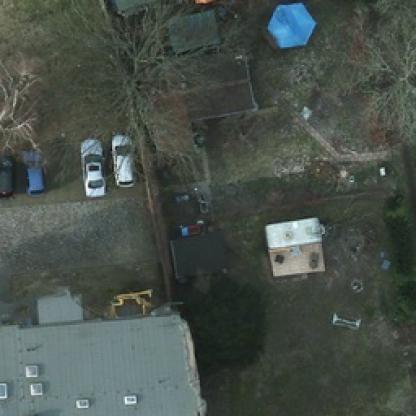car: (80, 140, 108, 197), (22, 142, 48, 194), (110, 133, 134, 187), (0, 146, 15, 196)
